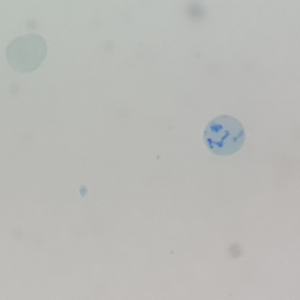aggregate reticulocyte: (201, 115, 247, 158)
erythrocyte: (2, 32, 49, 74)
